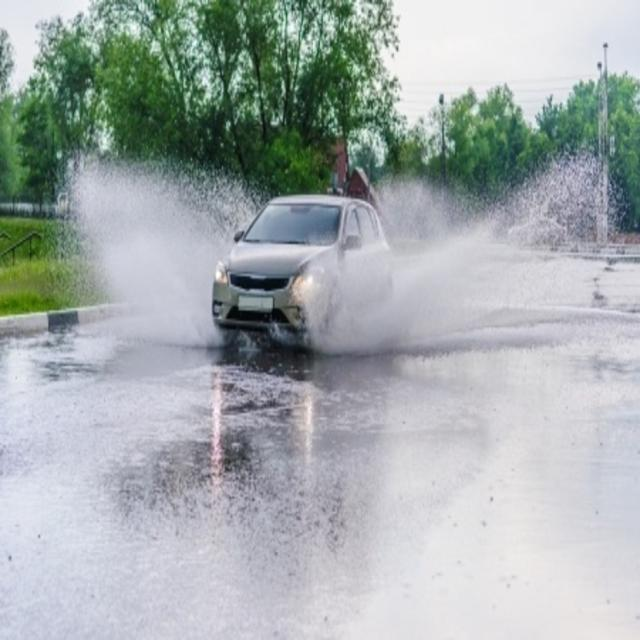car: (213, 189, 394, 355)
